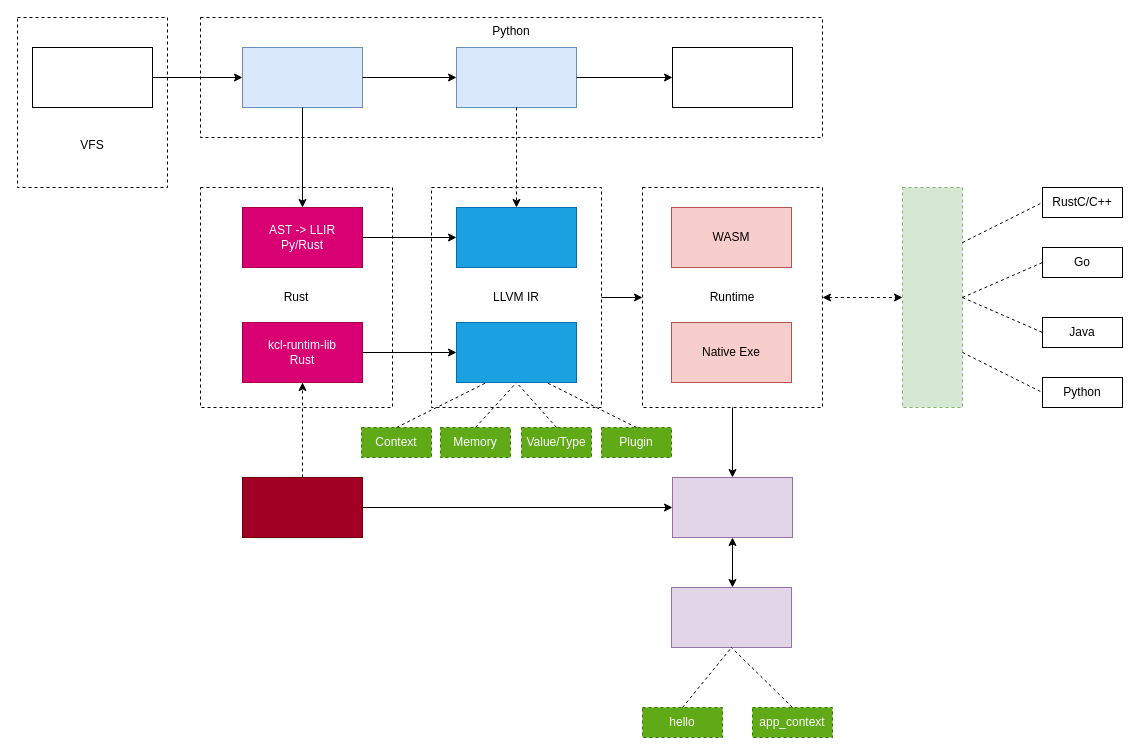
The diagram is 1140 pixels wide and 755 high, and some of its shapes have lost their labels. Here are the shapes that lost their labels. From the top down, the centre of each, then its label:
the point at 92,77: main.k
the point at 302,77: KCL AST
the point at 516,77: KCL Bytecode
the point at 732,77: KCL-VM
the point at 516,237: KCL-LLVM-IR
the point at 932,297: API
the point at 516,352: KCL-RT-LLVM-IR (libc/libc++/libkcl) Value/Type/Lib
the point at 302,507: KCL Plugin
the point at 732,507: PluginRestClient (Rust)
the point at 731,617: PluginRestServer (Python)
